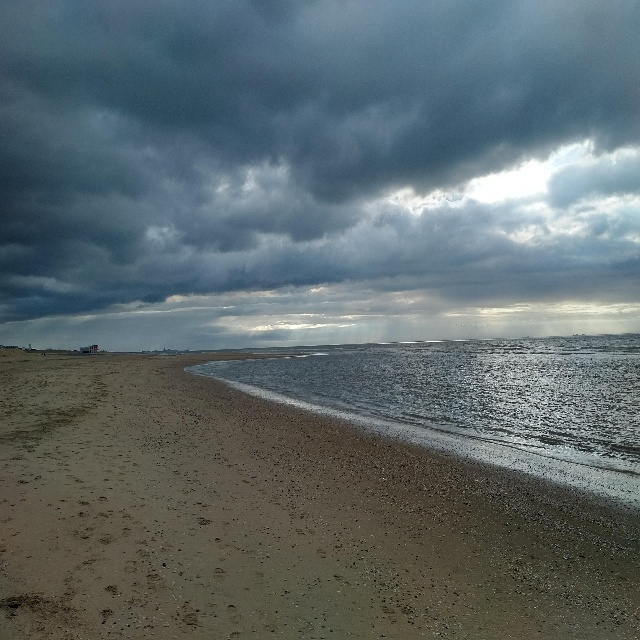linhaEspraiamento: (143, 355, 632, 499)
